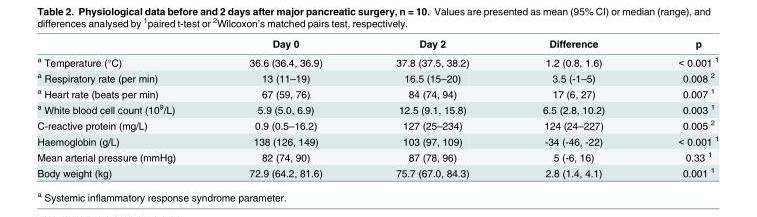table: (36, 37, 718, 178)
table column: (36, 37, 211, 178), (211, 37, 358, 178), (358, 37, 505, 178), (505, 37, 640, 178), (640, 37, 718, 178)
table column header: (36, 37, 718, 51)
table row: (36, 51, 718, 69), (36, 69, 718, 85), (36, 100, 718, 116), (36, 116, 718, 132), (36, 132, 718, 148), (36, 148, 718, 164), (36, 85, 718, 100), (36, 37, 718, 51), (36, 164, 718, 178)
